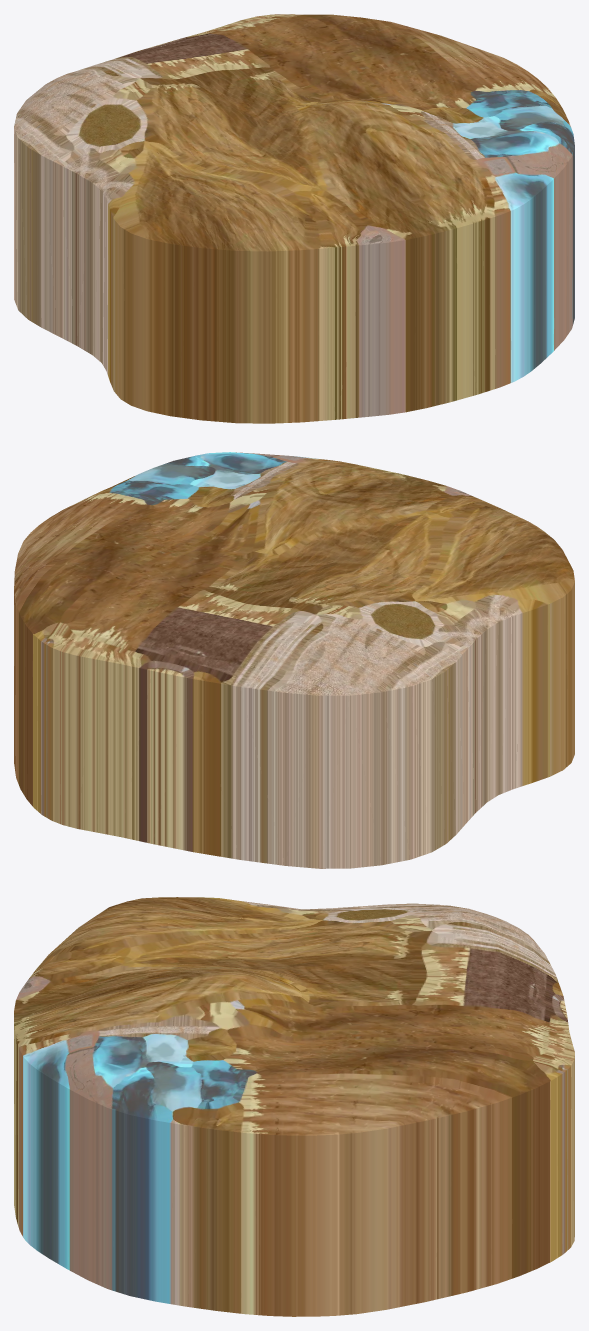
3 renders of one model, top to bottom at view 1: azimuth 30°, elevation 25°; view 2: azimuth 150°, elevation 25°; view 3: azimuth 270°, elevation 25°, orthographic. The views are drawn at different scales.
Parts seen in each view (by area): view 1: SM_Vault_Staff_01_LOD0; view 2: SM_Vault_Staff_01_LOD0; view 3: SM_Vault_Staff_01_LOD0.
Part boxes in pixels (left/top/right/bottom): SM_Vault_Staff_01_LOD0: left=14, top=14, right=574, bottom=423; SM_Vault_Staff_01_LOD0: left=14, top=452, right=574, bottom=868; SM_Vault_Staff_01_LOD0: left=14, top=897, right=574, bottom=1316.
Size of the model in its own units: 2.82 by 1.28 by 2.81.
